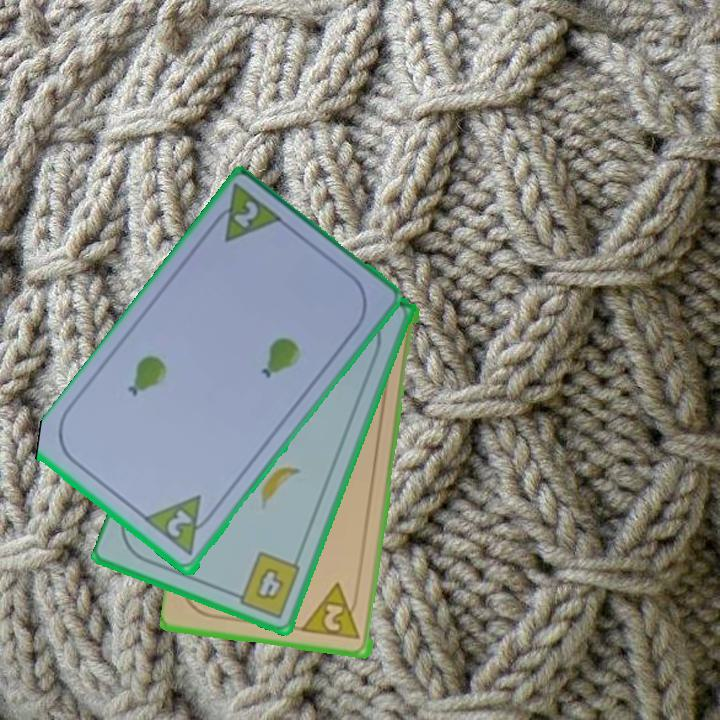2p: (204, 181, 287, 247), (142, 492, 220, 560), (301, 580, 364, 643)
4b: (227, 548, 304, 621)
